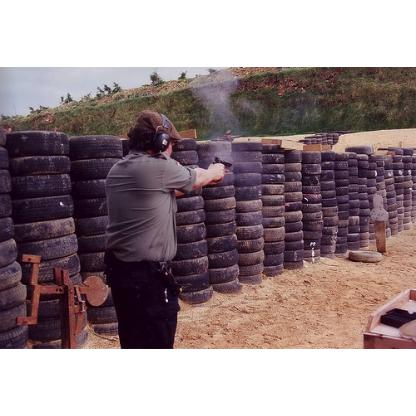gun: (209, 154, 233, 186)
